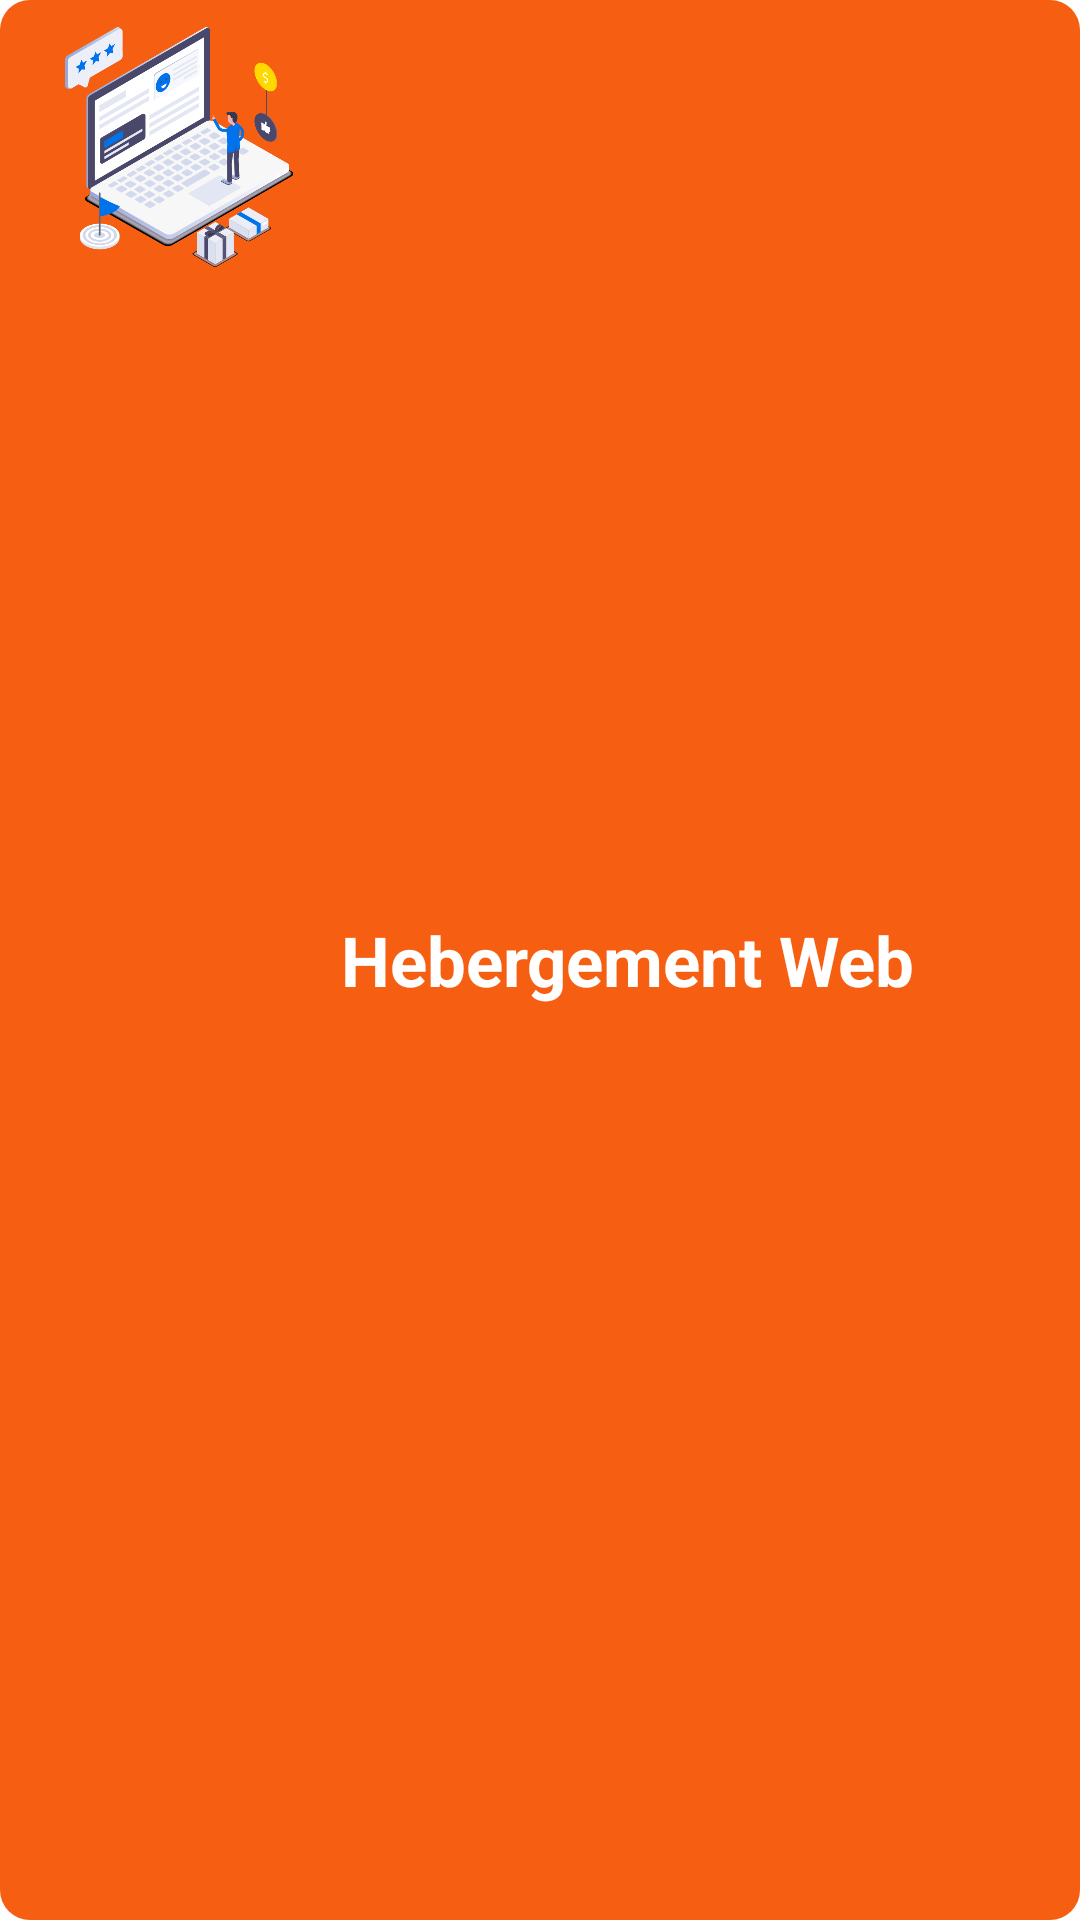

Where to tap for icons on this 1080×1920 app screen, as (x=x, y=y):
categorie image: (x=179, y=147)
